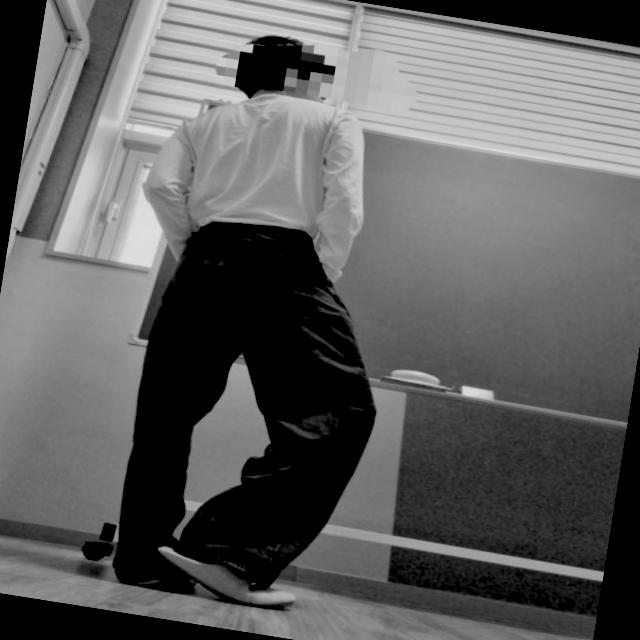denimpants: (111, 203, 405, 616)
longsleeve: (133, 70, 381, 290)
